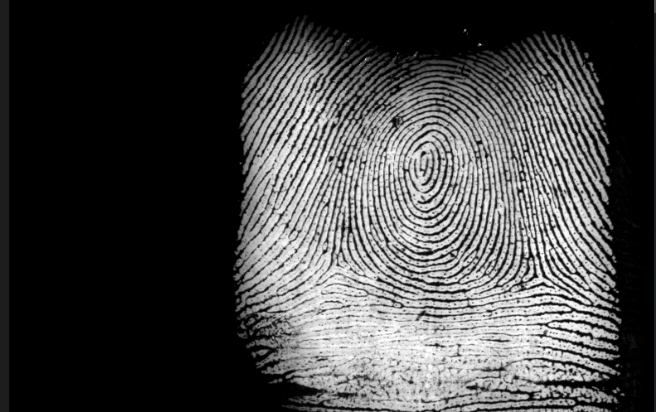nucelo: (405, 144, 439, 188)
verticilo: (519, 256, 560, 289), (314, 254, 354, 281)
